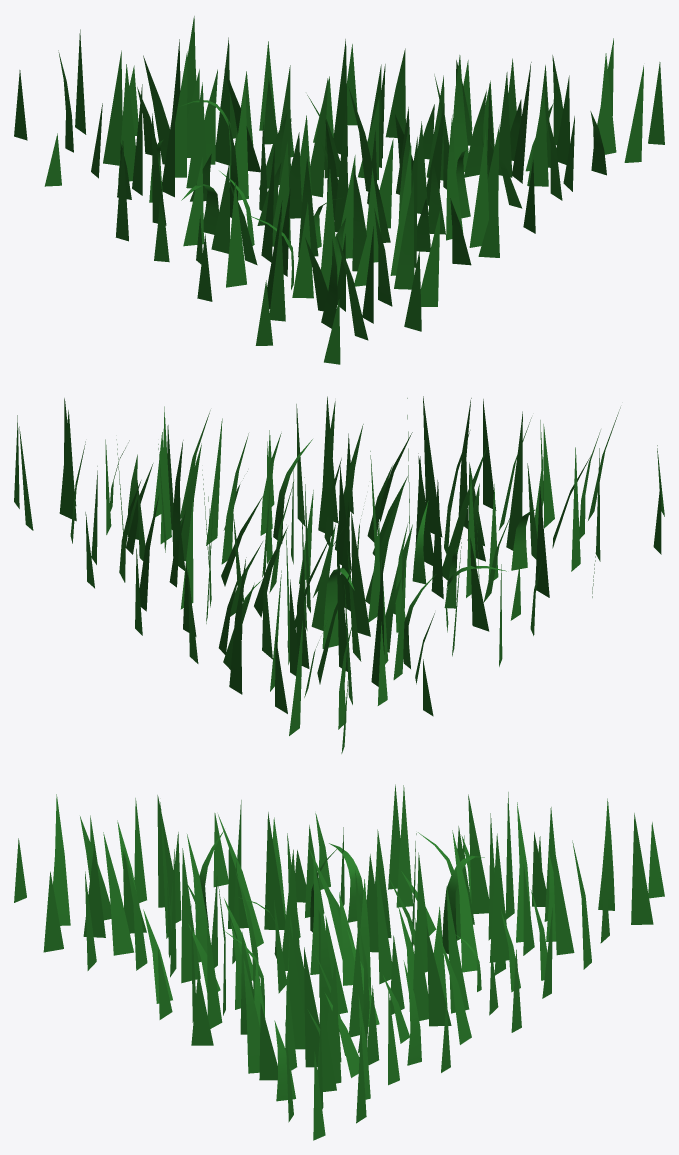
The model's file is grass_patches_set_triangle_mini.fbx.
3 views of the same model, one above another, from view 1: azimuth 30°, elevation 25°; view 2: azimuth 150°, elevation 25°; view 3: azimuth 270°, elevation 25° (orthographic). The views are drawn at different scales.
Parts seen in each view (by area): view 1: grass_ground_paint_B143, grass_ground_paint_A192, grass_ground_paint_A553, grass_ground_paint_A292, grass_ground_paint_A521, grass_ground_paint_A417, grass_ground_paint_A353, grass_ground_paint_A321, grass_ground_paint_A552, grass_ground_paint_A355, grass_ground_paint_C54, grass_ground_paint_A520 (+71 smaller); view 2: grass_ground_paint_A686, grass_ground_paint_A550, grass_ground_paint_B142, grass_ground_paint_B268, grass_ground_paint_E31, grass_ground_paint_A354, grass_ground_paint_A584, grass_ground_paint_B194, grass_ground_paint_A192, grass_ground_paint_A318, grass_ground_paint_B218, grass_ground_paint_A454 (+27 smaller); view 3: grass_ground_paint_B70, grass_ground_paint_A393, grass_ground_paint_A683, grass_ground_paint_B139, grass_ground_paint_A287, grass_ground_paint_B119, grass_ground_paint_A619, grass_ground_paint_A318, grass_ground_paint_A418, grass_ground_paint_A484, grass_ground_paint_A616, grass_ground_paint_B166 (+60 smaller).
Part boxes in pixels (x1,y1,x2,y2): grass_ground_paint_B143: (394, 180, 414, 289); grass_ground_paint_A192: (226, 182, 246, 287); grass_ground_paint_A553: (103, 50, 122, 165); grass_ground_paint_A292: (469, 130, 488, 247); grass_ground_paint_A521: (175, 51, 187, 177); grass_ground_paint_A417: (527, 89, 548, 186); grass_ground_paint_A353: (310, 78, 327, 197); grass_ground_paint_A321: (420, 210, 440, 306); grass_ground_paint_A552: (215, 37, 230, 165); grass_ground_paint_A355: (292, 202, 313, 298); grass_ground_paint_C54: (452, 55, 468, 171); grass_ground_paint_A520: (118, 64, 135, 181); grass_ground_paint_A686: (351, 512, 370, 636); grass_ground_paint_A550: (506, 411, 522, 550); grass_ground_paint_B142: (318, 401, 335, 536); grass_ground_paint_B268: (229, 557, 246, 694); grass_ground_paint_E31: (322, 568, 354, 648); grass_ground_paint_A354: (423, 396, 442, 537); grass_ground_paint_A584: (59, 410, 76, 521); grass_ground_paint_B194: (442, 444, 488, 580); grass_ground_paint_A192: (535, 487, 549, 597); grass_ground_paint_A318: (160, 406, 171, 543); grass_ground_paint_B218: (311, 524, 335, 630); grass_ground_paint_A454: (470, 538, 489, 631); grass_ground_paint_B70: (103, 832, 133, 955); grass_ground_paint_A393: (264, 812, 285, 929); grass_ground_paint_A683: (631, 813, 653, 924); grass_ground_paint_B139: (452, 830, 478, 972); grass_ground_paint_A287: (181, 848, 200, 983); grass_ground_paint_B119: (53, 794, 70, 925); grass_ground_paint_A619: (468, 794, 489, 913); grass_ground_paint_A318: (304, 947, 320, 1067); grass_ground_paint_A418: (288, 925, 305, 1049); grass_ground_paint_A484: (426, 926, 451, 1026); grass_ground_paint_A616: (552, 838, 574, 955); grass_ground_paint_B166: (243, 958, 260, 1073).
Bounding box in the file's own units: 222 × 55.74 × 237.
